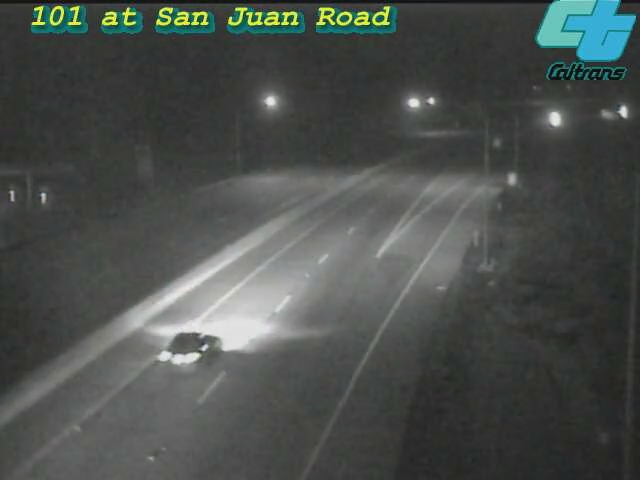vehicle: (137, 288, 247, 398), (584, 90, 634, 140), (531, 94, 581, 144), (598, 87, 640, 137)
